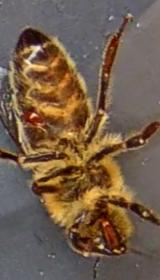varroa_mite: (20, 98, 56, 132)
